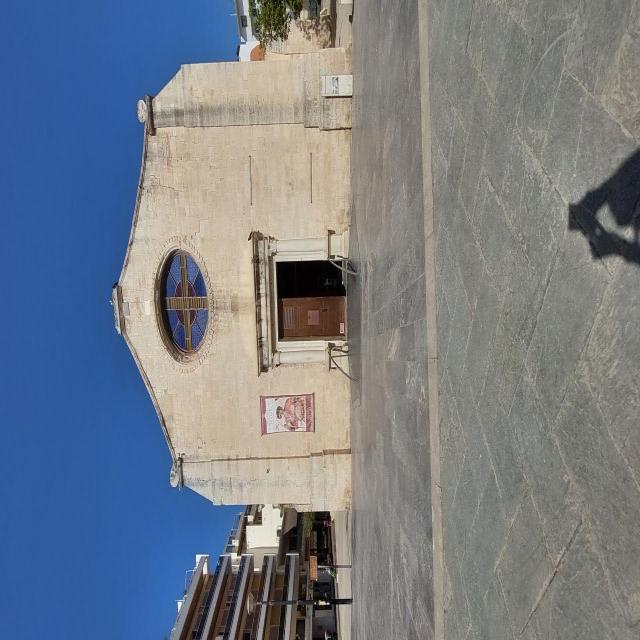Agia Aikaterini: (56, 237, 267, 640)
